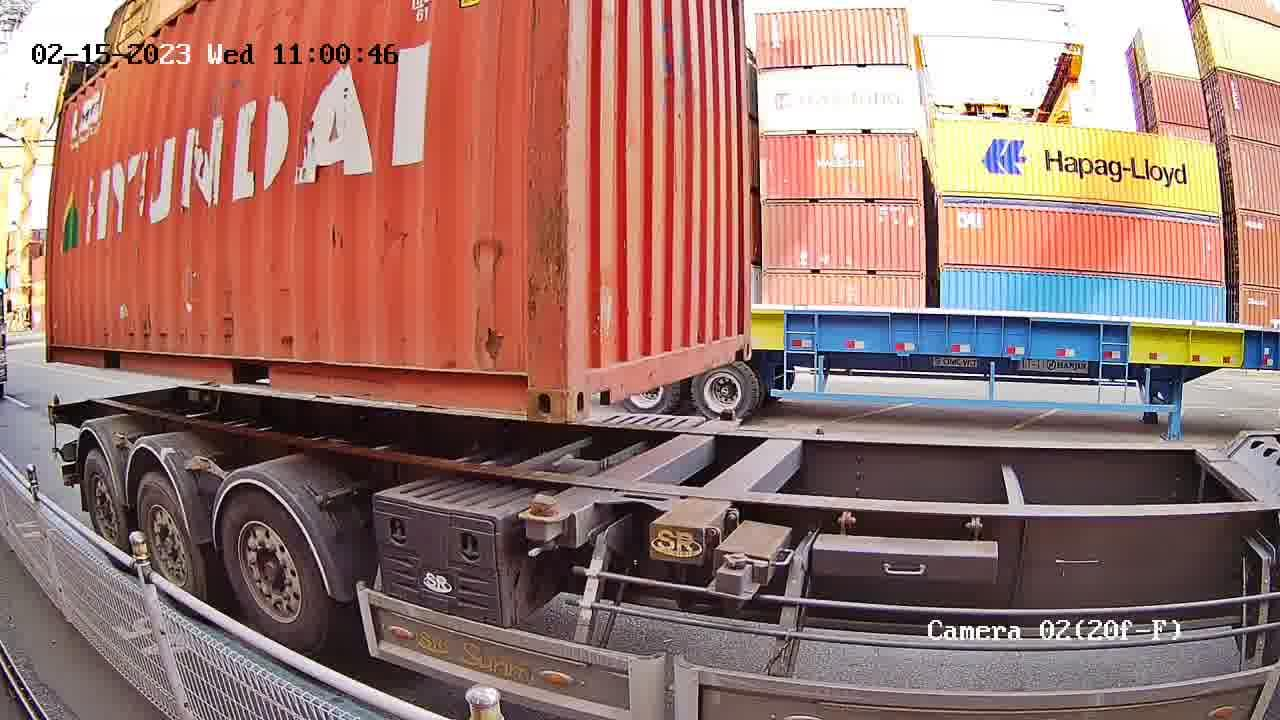Chassis: (555, 416, 739, 546)
Cone: (523, 490, 561, 554)
Hole_L: (566, 319, 627, 413)
Hole_R: (491, 335, 566, 415), (712, 306, 753, 368)
Tire: (219, 497, 327, 648), (136, 480, 205, 594), (84, 454, 123, 548)
